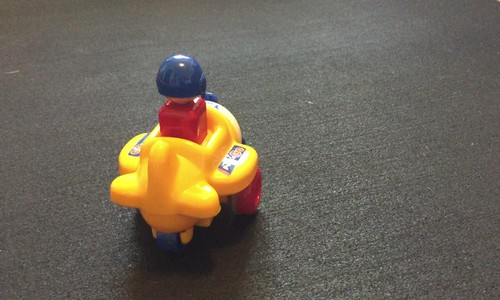toy: (109, 50, 281, 251)
